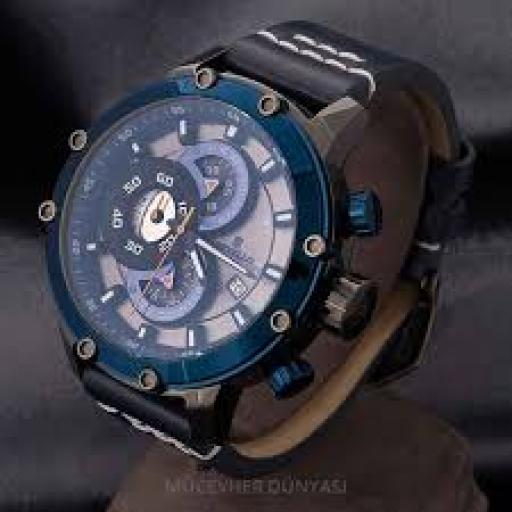KolSaati: (16, 16, 430, 451)
